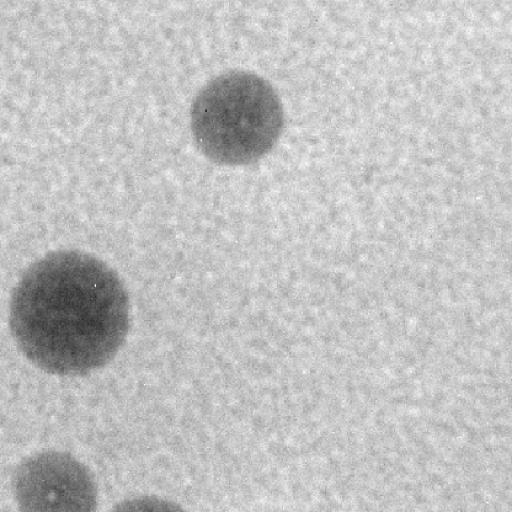Nanoparticles: (6, 243, 134, 386), (188, 69, 286, 168), (6, 448, 100, 512), (113, 494, 186, 512)
